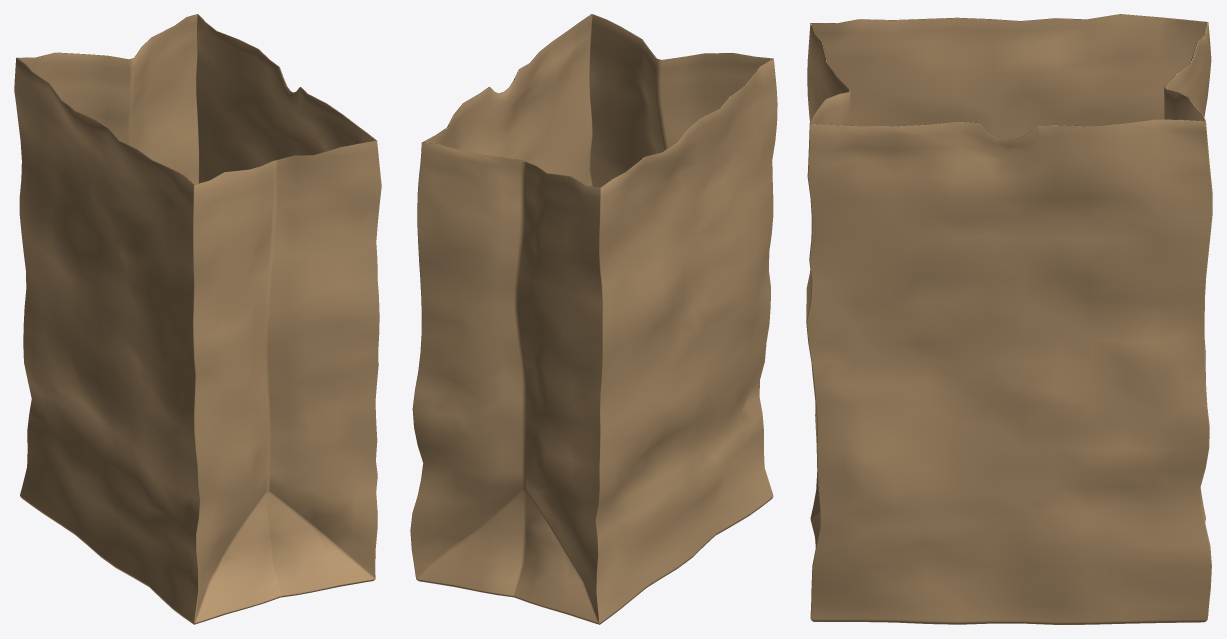
The model's file is paperbag_a01.glb.
3 renders of one model, left to right at view 1: azimuth 30°, elevation 25°; view 2: azimuth 150°, elevation 25°; view 3: azimuth 270°, elevation 25°, orthographic. The views are drawn at different scales.
Size of the model in its own units: 0.1728 by 0.3584 by 0.2608.
